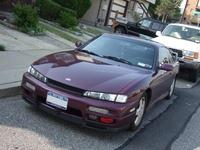Car: (16, 19, 181, 144)
